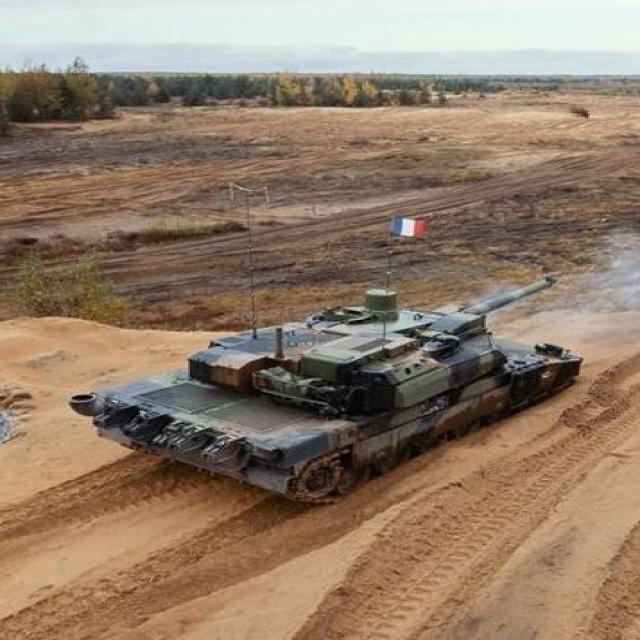tank: (83, 273, 582, 507)
